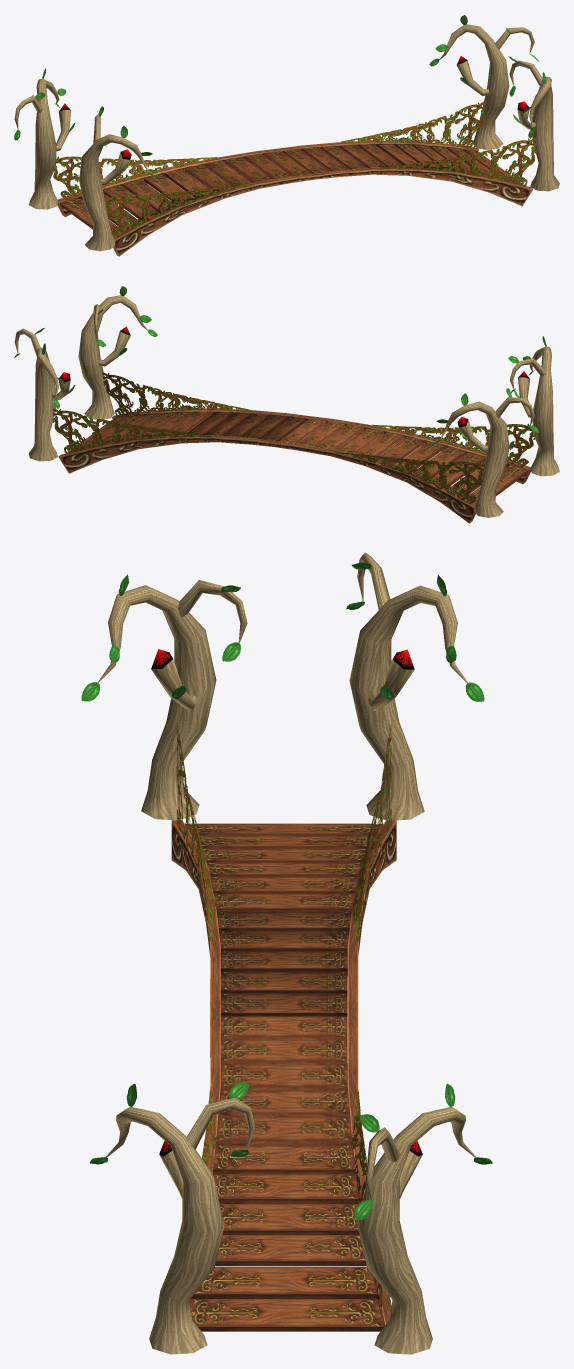
The model's file is EKH_THRONE_PS_TH_BKBRIDGE65__GX.fbx.
3 views of the same model, one above another, from view 1: azimuth 30°, elevation 25°; view 2: azimuth 150°, elevation 25°; view 3: azimuth 270°, elevation 25° (orthographic). The views are drawn at different scales.
Visible parts, largest first — view 1: EKH_THRONE_PS_TH_BKBRIDGE65__GX; view 2: EKH_THRONE_PS_TH_BKBRIDGE65__GX; view 3: EKH_THRONE_PS_TH_BKBRIDGE65__GX.
Part boxes in pixels (box(x1,y1,x2,y2)): EKH_THRONE_PS_TH_BKBRIDGE65__GX: box(14, 15, 559, 256); EKH_THRONE_PS_TH_BKBRIDGE65__GX: box(14, 286, 559, 523); EKH_THRONE_PS_TH_BKBRIDGE65__GX: box(81, 552, 492, 1354).
Size of the model in its own units: 105743 by 36290 by 36753.
Materials: 6 (6 with a texture image).
